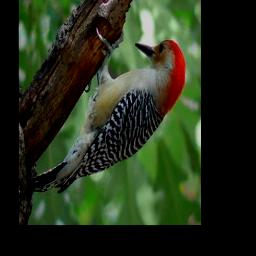Woodpecker: (28, 25, 188, 199)
